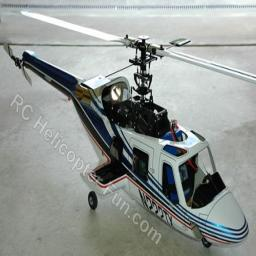helicopter: (24, 2, 252, 256)
